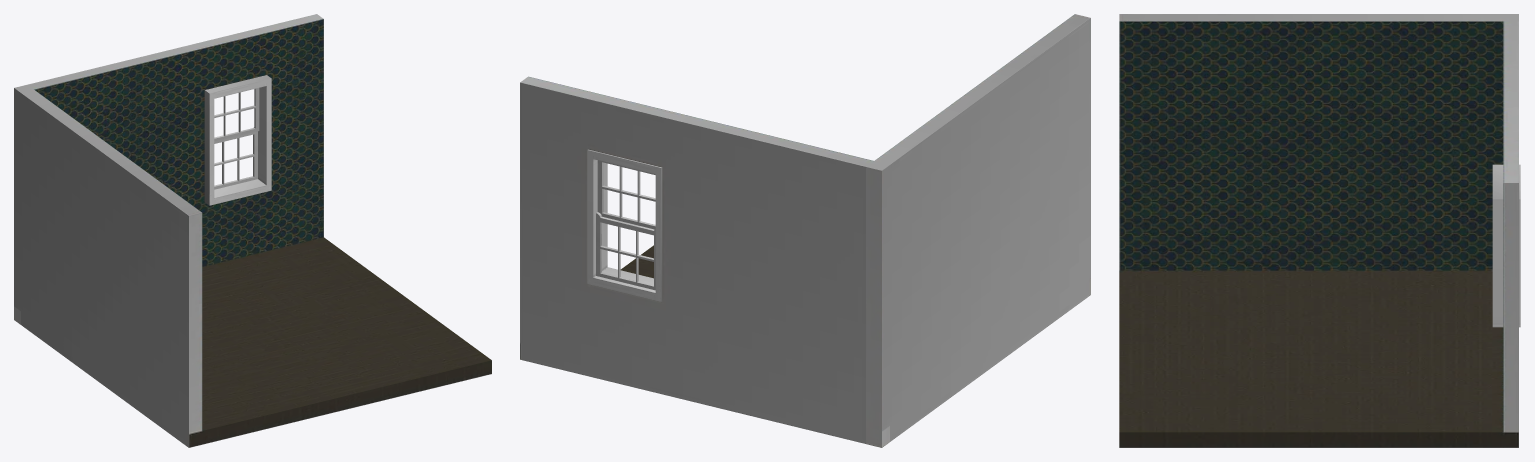
Rendered from Room-transformed.glb.
3 renders of one model, left to right at view 1: azimuth 30°, elevation 25°; view 2: azimuth 150°, elevation 25°; view 3: azimuth 270°, elevation 25°, orthographic. The views are drawn at different scales.
Parts seen in each view (by area): view 1: Cube_Baked, Frame_Baked, Pane_Baked; view 2: Cube_Baked, Frame_Baked, Pane_Baked; view 3: Cube_Baked, Frame_Baked.
Boxes of the visible parts, x1,y1,x2,y2 form: Cube_Baked: (14, 14, 491, 447); Frame_Baked: (204, 75, 271, 205); Pane_Baked: (214, 88, 259, 141); Cube_Baked: (520, 14, 1090, 447); Frame_Baked: (587, 149, 662, 301); Pane_Baked: (597, 160, 655, 229); Cube_Baked: (1119, 14, 1518, 447); Frame_Baked: (1492, 164, 1520, 327).
Bounding box in the file's own units: 60.33 × 44.15 × 60.56.
3 materials, 3 textured.
